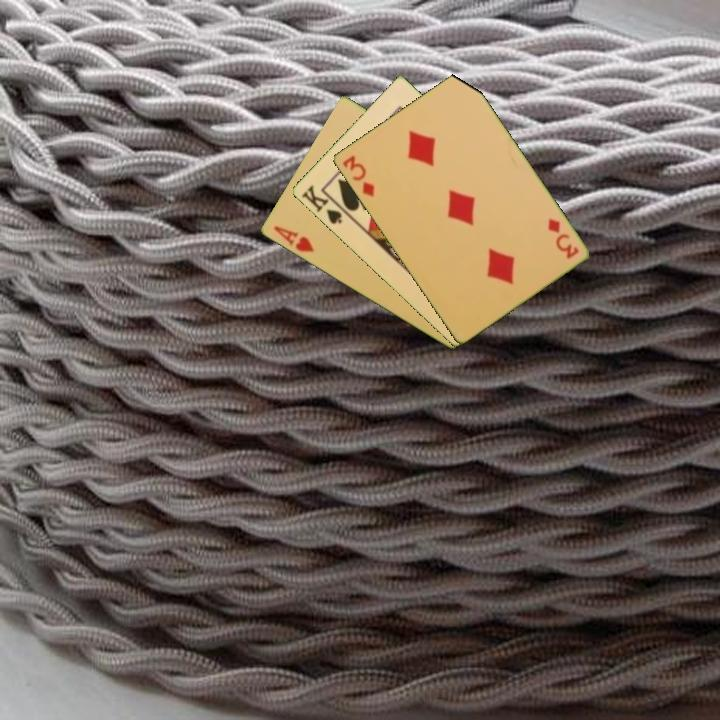3d: (339, 152, 377, 200), (544, 215, 581, 262)
Ah: (270, 222, 316, 255)
Ks: (297, 181, 345, 227)
